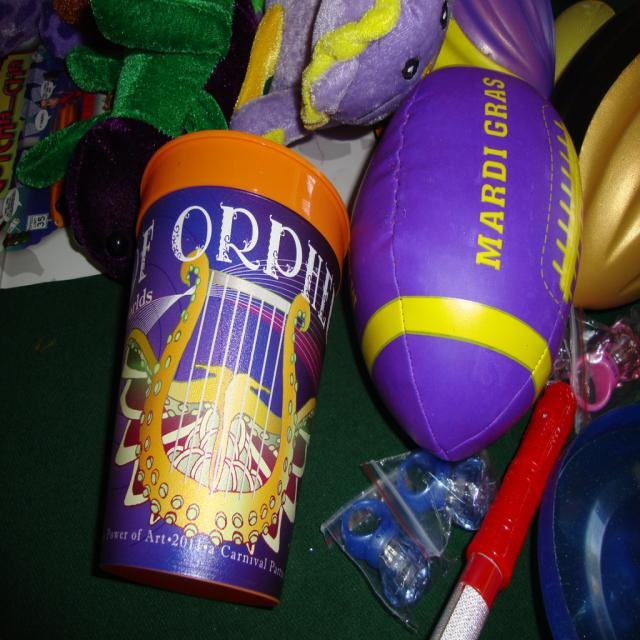Ball: (347, 68, 583, 466), (572, 55, 640, 312), (430, 0, 556, 98)
